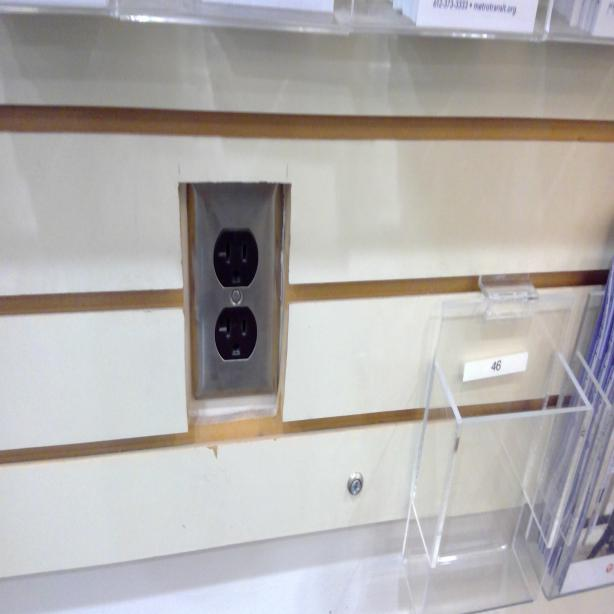typeb: (214, 232, 256, 286), (217, 310, 254, 358)
